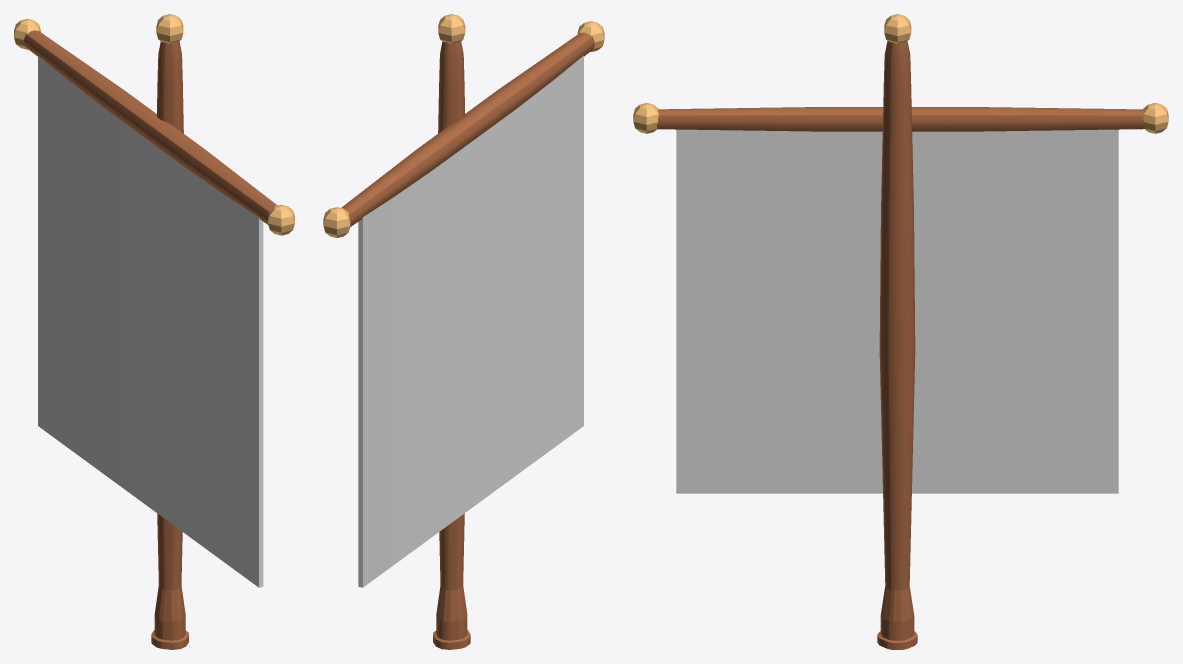
File: sail.fbx
3 renders of one model, left to right at view 1: azimuth 30°, elevation 25°; view 2: azimuth 150°, elevation 25°; view 3: azimuth 270°, elevation 25°, orthographic.
Parts seen in each view (by area): view 1: pCube31, pCube30, pCube29, pSphere2, pSphere1, pSphere3; view 2: pCube31, pCube30, pCube29, pSphere3, pSphere1, pSphere2; view 3: pCube31, pCube29, pCube30.
Boxes of the visible parts, bbox=[...] form: pCube31: bbox=[38, 56, 263, 587]; pCube30: bbox=[23, 30, 277, 224]; pCube29: bbox=[151, 41, 188, 649]; pSphere2: bbox=[268, 204, 294, 235]; pSphere1: bbox=[156, 14, 183, 43]; pSphere3: bbox=[14, 18, 40, 49]; pCube31: bbox=[358, 55, 583, 587]; pCube30: bbox=[341, 32, 594, 226]; pCube29: bbox=[433, 41, 470, 649]; pSphere3: bbox=[323, 207, 350, 237]; pSphere1: bbox=[438, 14, 465, 44]; pSphere2: bbox=[577, 21, 604, 51]; pCube31: bbox=[676, 129, 1118, 493]; pCube29: bbox=[877, 41, 917, 649]; pCube30: bbox=[656, 107, 1144, 131].
Size of the model in its own units: 1.98 by 27.29 by 21.13.
